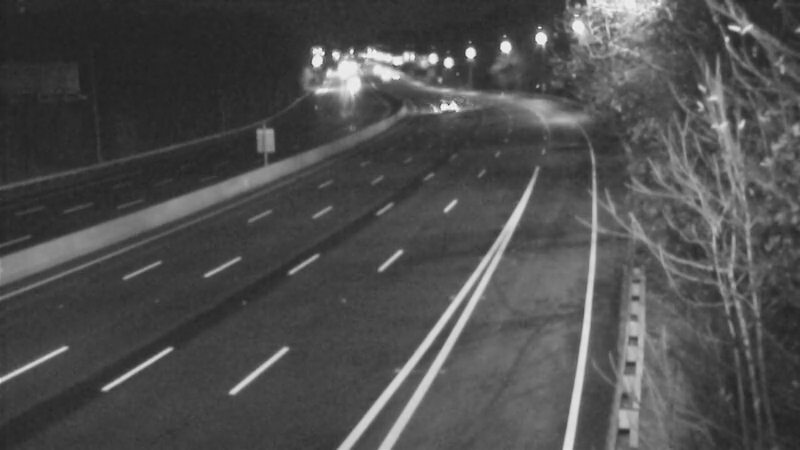vehicle: (415, 80, 465, 130), (328, 66, 378, 116)
